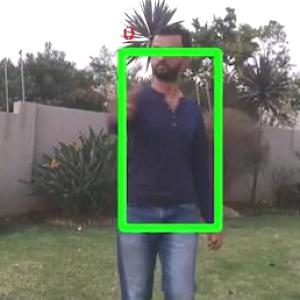takeoff-hand: (98, 69, 144, 122)
